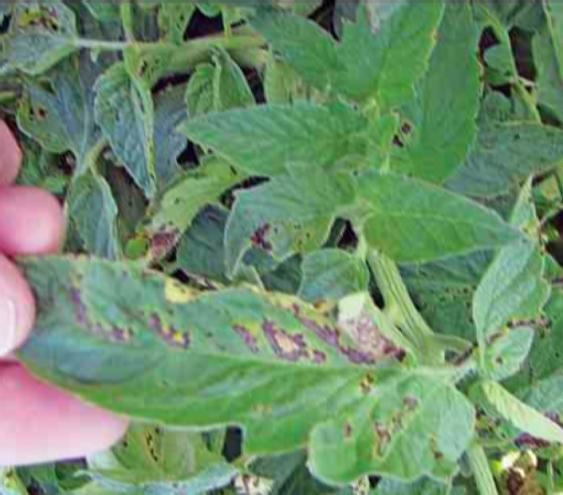Tomato Early blight leaf: (24, 257, 496, 490)
Tomato leaf: (348, 170, 539, 260), (180, 104, 344, 166), (251, 5, 354, 90)
